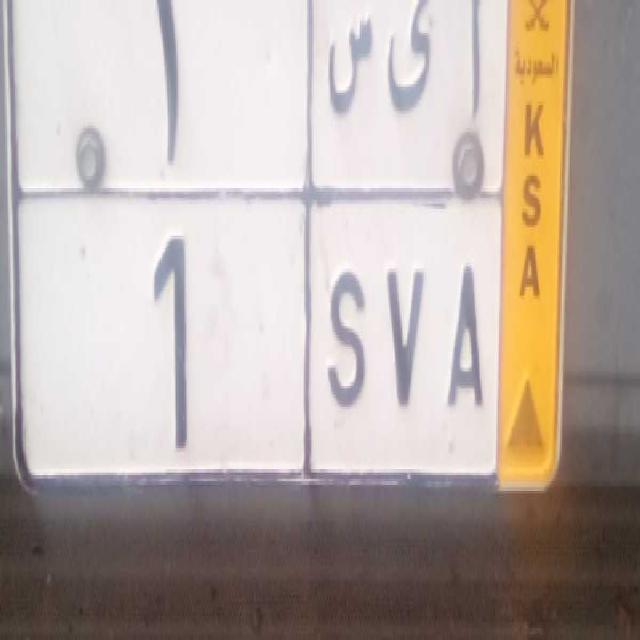license_plate: (12, 188, 500, 484)
